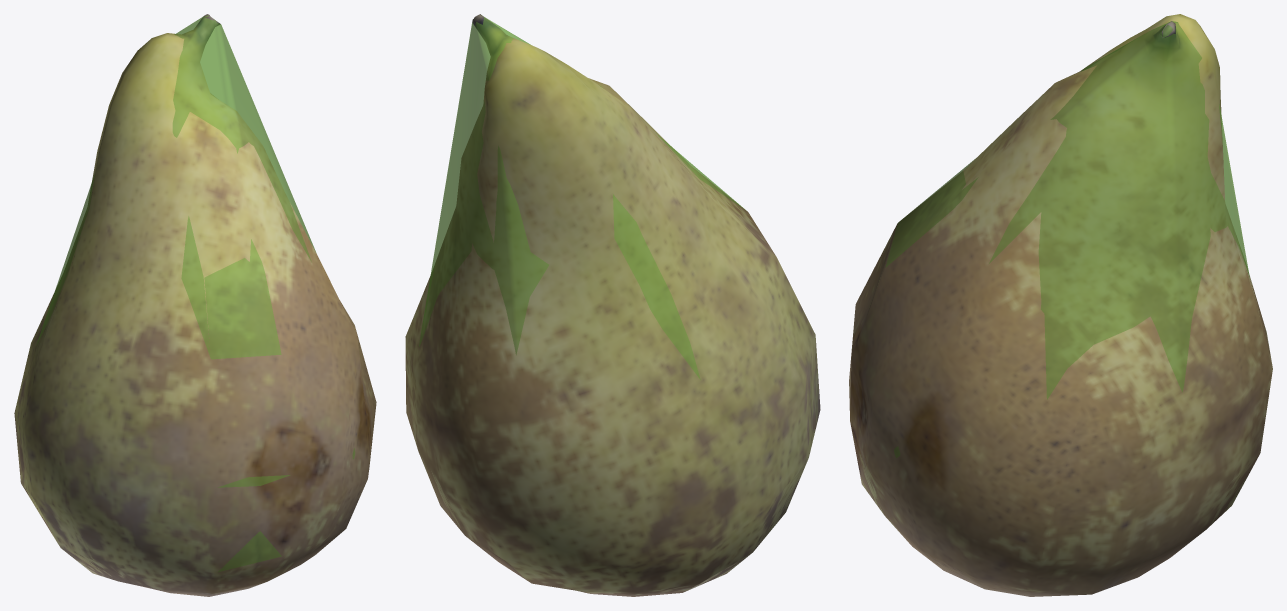
The model's file is pg_Pear_01.fbx.
3 views of the same model, side by side, from view 1: azimuth 30°, elevation 25°; view 2: azimuth 150°, elevation 25°; view 3: azimuth 270°, elevation 25° (orthographic). The views are drawn at different scales.
Visible parts, largest first — view 1: pg_Pear_01_a_LOD0, pg_Pear_01_a_col; view 2: pg_Pear_01_a_LOD0, pg_Pear_01_a_col; view 3: pg_Pear_01_a_LOD0, pg_Pear_01_a_col.
Boxes of the visible parts, x1=… form: pg_Pear_01_a_LOD0: x1=14, y1=14, x2=376, y2=596; pg_Pear_01_a_col: x1=36, y1=15, x2=355, y2=571; pg_Pear_01_a_LOD0: x1=405, y1=14, x2=820, y2=596; pg_Pear_01_a_col: x1=419, y1=15, x2=746, y2=379; pg_Pear_01_a_LOD0: x1=849, y1=14, x2=1272, y2=596; pg_Pear_01_a_col: x1=852, y1=21, x2=1249, y2=457.
Size of what is drawn, in the model's own units: 6.49 by 9.86 by 6.64.
2 materials, 1 textured.
